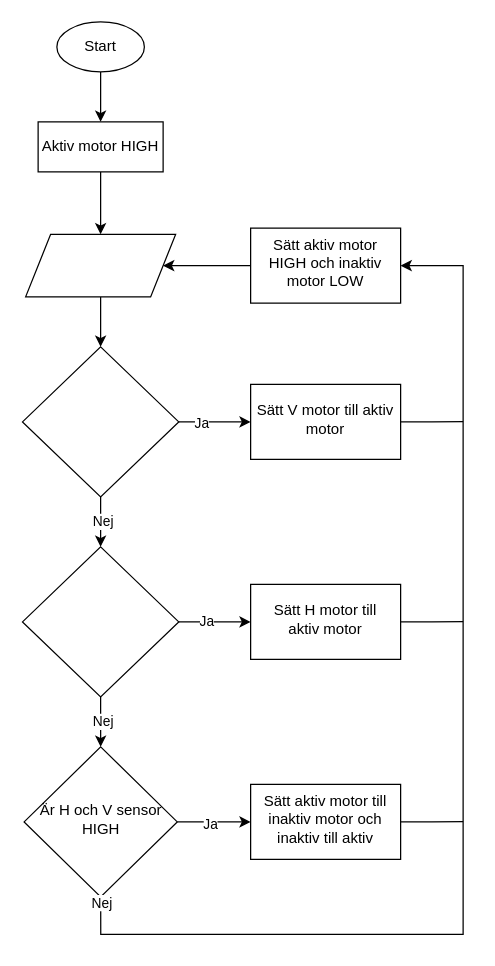
Image size: 495x966. Some labels were removed from this diagram. Each missing label, with the centre of its shape:
"Läs sensorernas status" belongs at (100,265).
"Är H sensor HIGH och V sensor LOW" belongs at (100,421).
"Är H sensor LOW och V sensor HIGH" belongs at (100,621).
